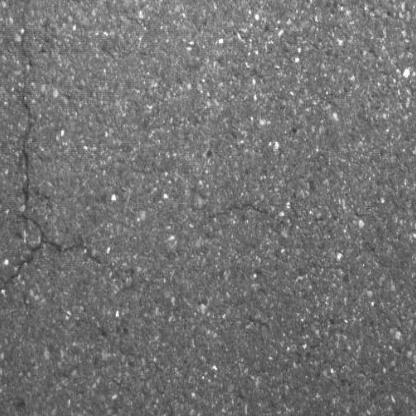Cracks: (0, 23, 106, 297)
